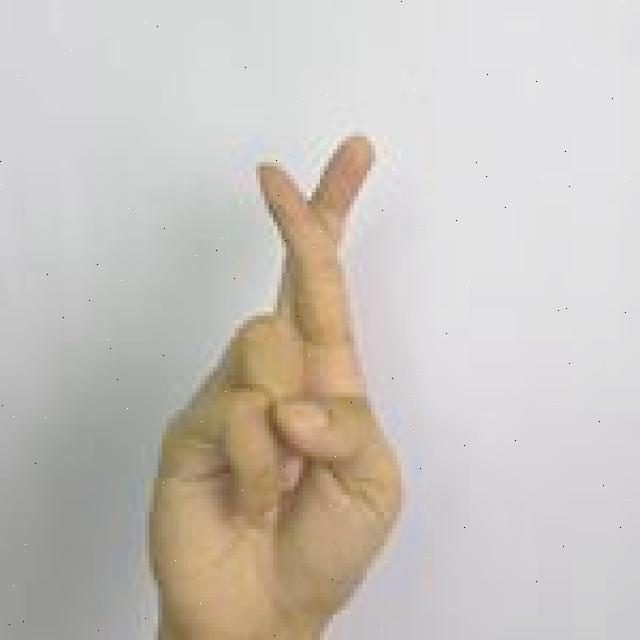R: (144, 129, 406, 640)
